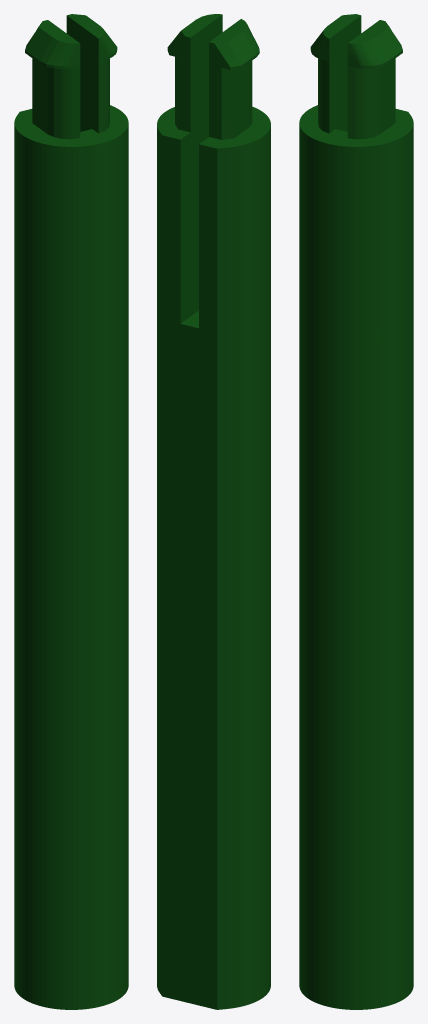
File: stem_1A_0.glb
3 renders of one model, left to right at view 1: azimuth 30°, elevation 25°; view 2: azimuth 150°, elevation 25°; view 3: azimuth 330°, elevation 25°, orthographic.
Parts seen in each view (by area): view 1: stem_1A_0; view 2: stem_1A_0; view 3: stem_1A_0.
Part boxes in pixels (x1=…): stem_1A_0: x1=14, y1=14, x2=128, y2=1009; stem_1A_0: x1=157, y1=14, x2=270, y2=1009; stem_1A_0: x1=299, y1=14, x2=413, y2=1009.
Size of the model in its own units: 0.0072 by 0.0666 by 0.00666.
